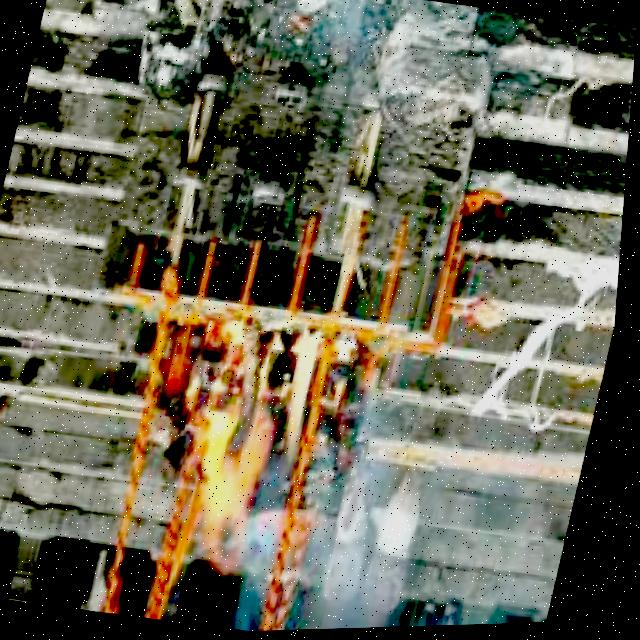Fire: (174, 310, 338, 575)
